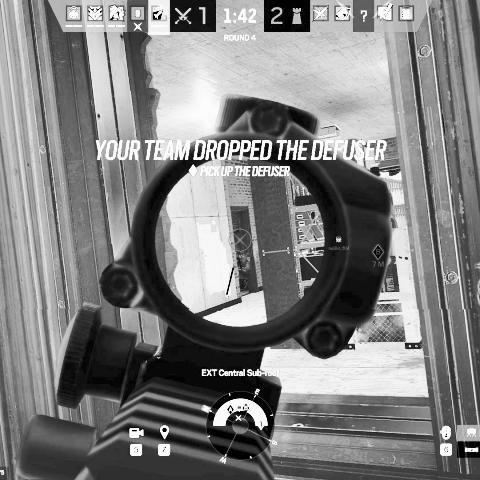Friend_label: (328, 235, 350, 251)
